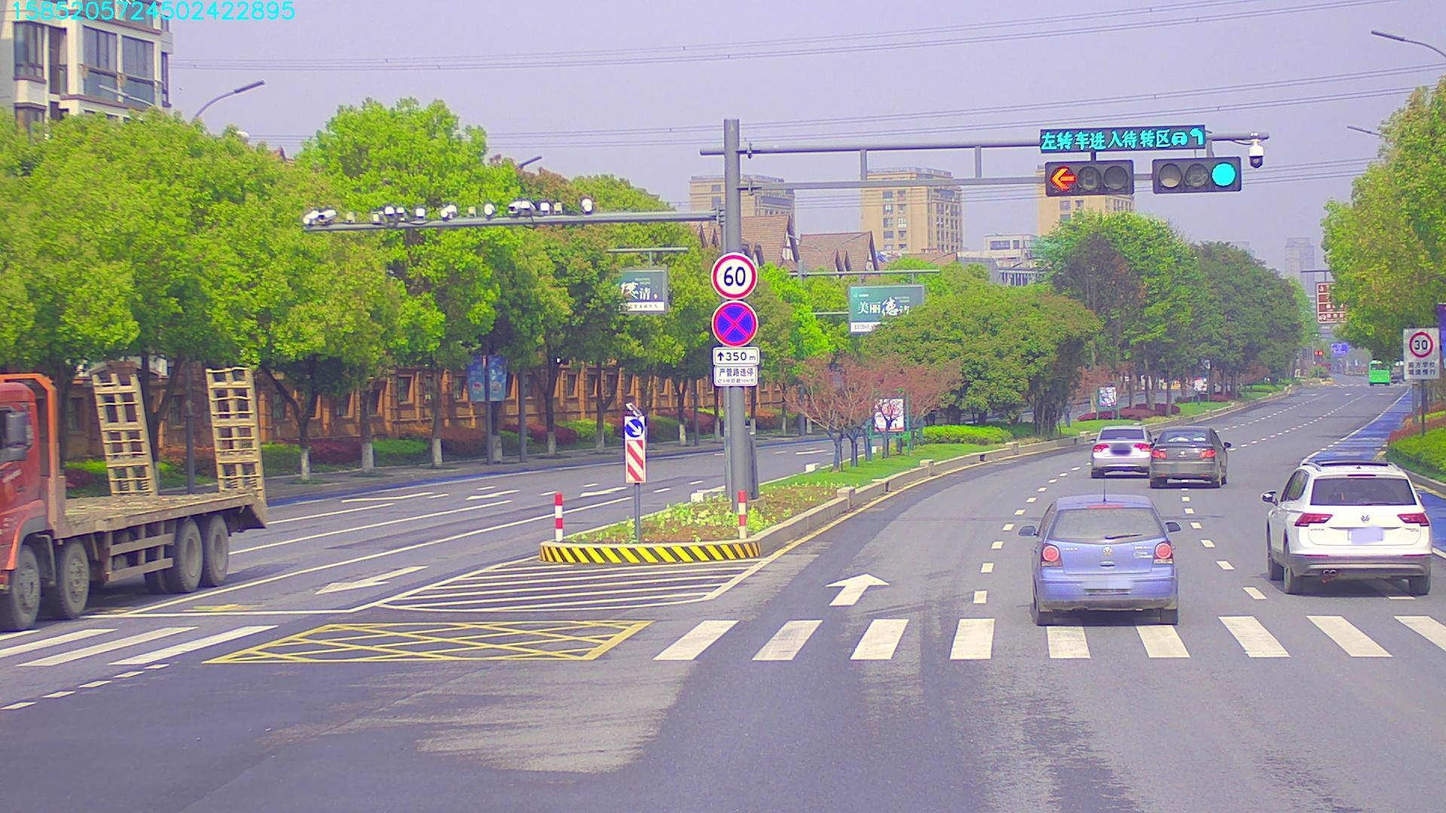green: (1149, 156, 1234, 193)
red: (1039, 156, 1129, 199)
wait_on: (1042, 126, 1214, 153)
